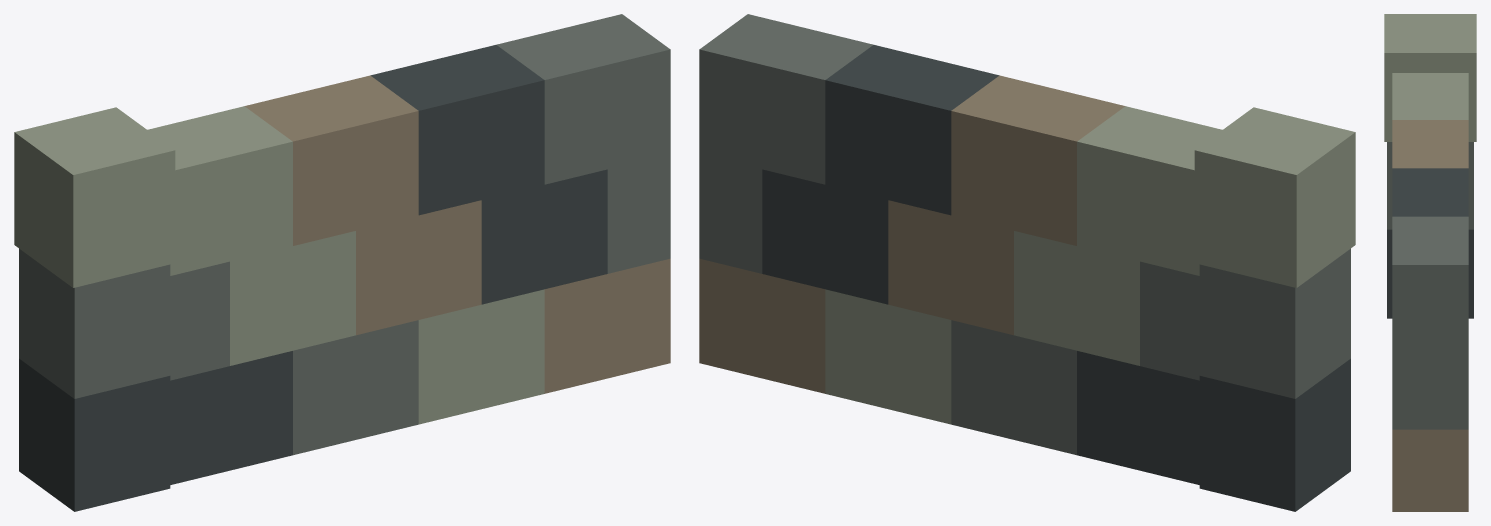
The model's file is TW_STONE_WALL_2M_A_LOD0.glb.
3 renders of one model, left to right at view 1: azimuth 30°, elevation 25°; view 2: azimuth 150°, elevation 25°; view 3: azimuth 270°, elevation 25°, orthographic. The views are drawn at different scales.
Parts seen in each view (by area): view 1: TW_STONE_WALL_2M_A_LOD0; view 2: TW_STONE_WALL_2M_A_LOD0; view 3: TW_STONE_WALL_2M_A_LOD0.
Boxes of the visible parts, x1,y1,x2,y2 form: TW_STONE_WALL_2M_A_LOD0: (14,14,670,511); TW_STONE_WALL_2M_A_LOD0: (699,14,1355,511); TW_STONE_WALL_2M_A_LOD0: (1384,14,1476,511).
Bounding box in the file's own units: 2.01 × 1.08 × 0.34.
1 material, 1 textured.
